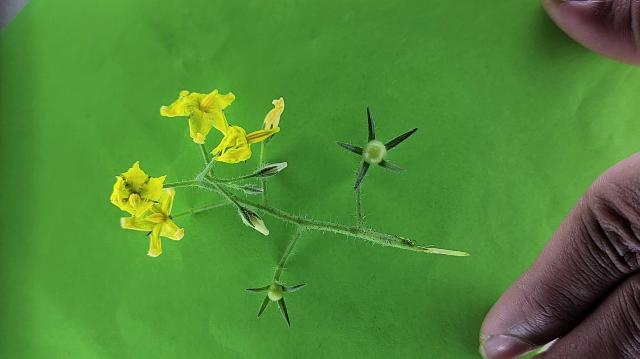Anthesis: (158, 86, 235, 145), (123, 189, 185, 257), (110, 160, 168, 220), (212, 124, 274, 165), (261, 95, 285, 132)
Flower Bud: (239, 206, 270, 236), (240, 184, 264, 195)
Fruit Bud: (363, 141, 385, 164), (268, 284, 284, 301)
